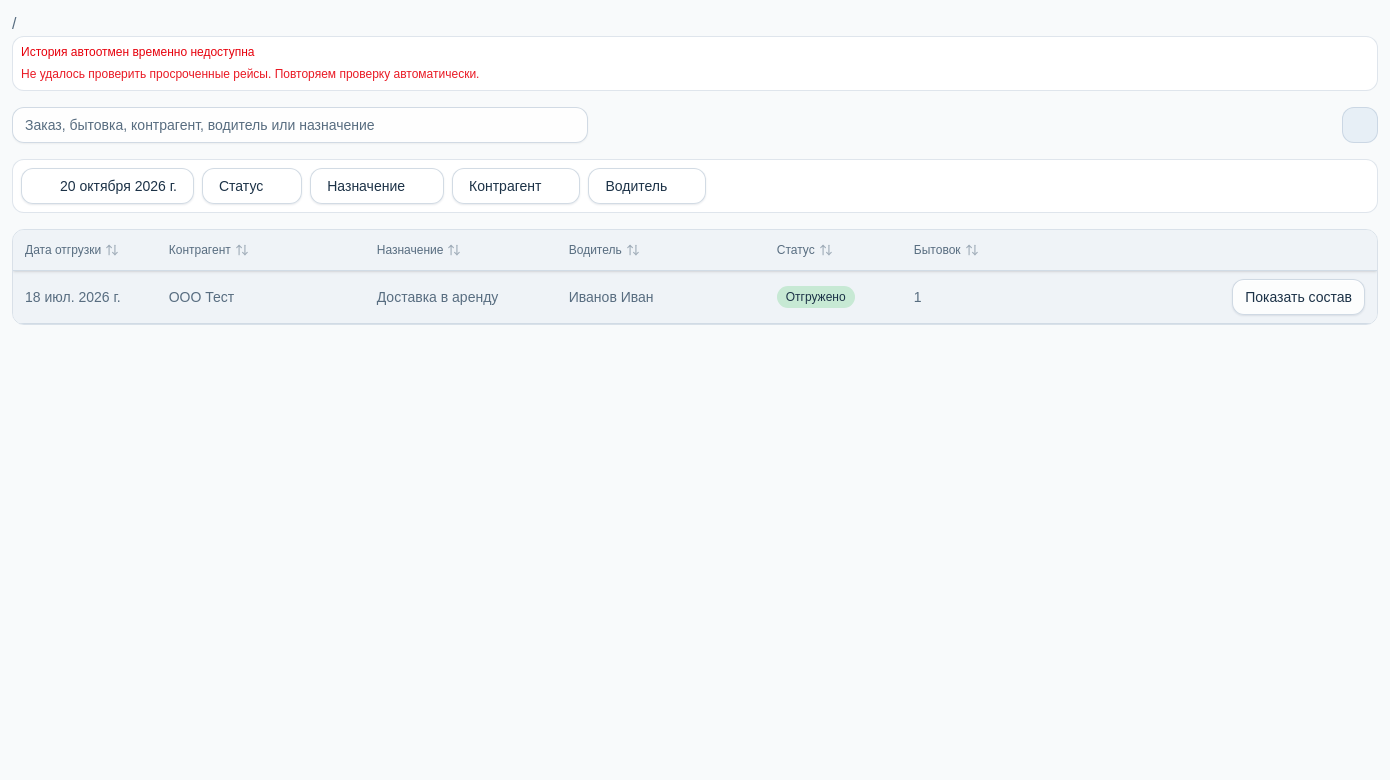
Test: LogisticsShipmentsPage › shows the exact furniture recorded by an inventory shipment without a false action warning
Click the button "Показать состав" at (1299, 297), box [1232,279,1365,315]
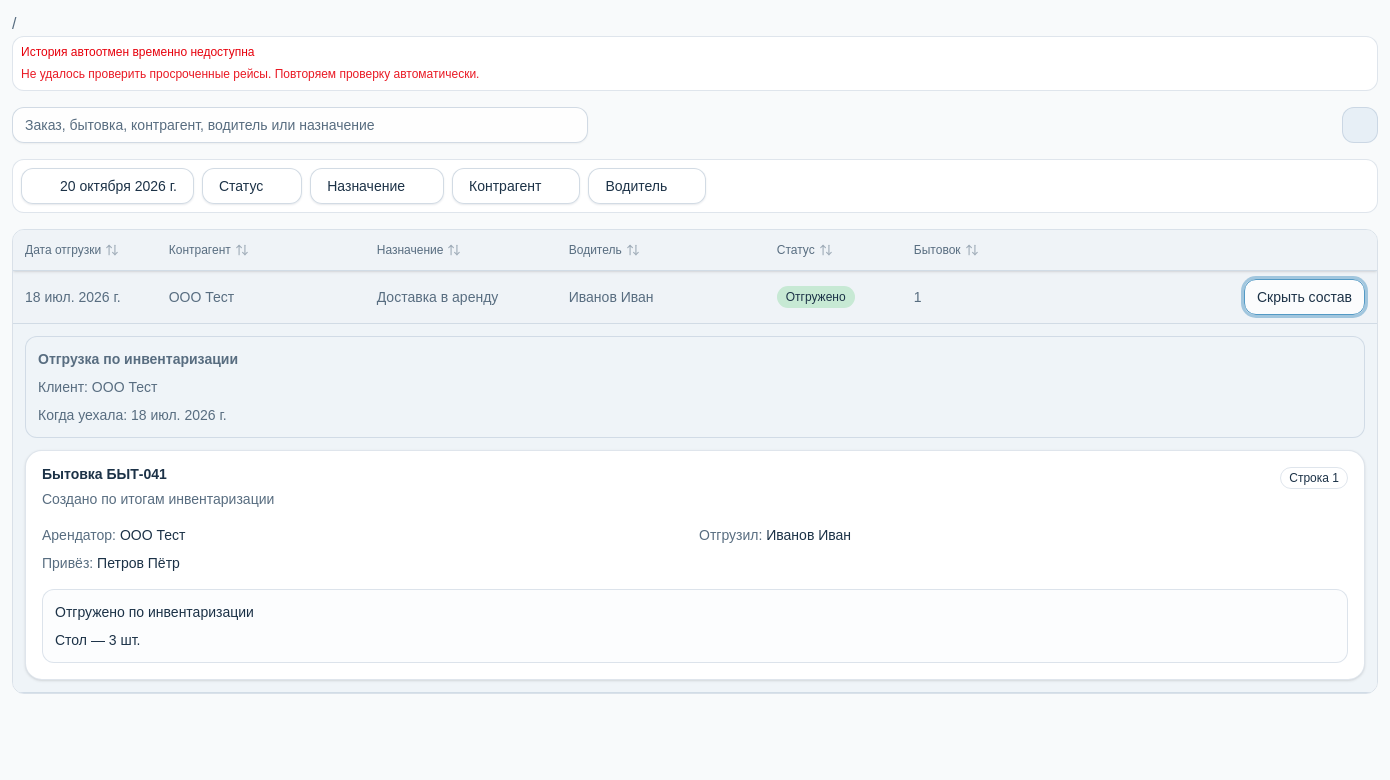
Expected: the element "Отгрузка по инвентаризации" is shown, [25,336,1365,438]
Expected: the heading "Отгружено по инвентаризации" is shown, [55,604,254,620]
Expected: the list item "Стол — 3 шт." is shown, [55,632,140,648]
